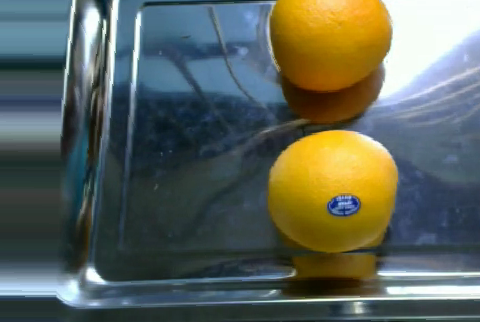Orange: (267, 128, 399, 252), (268, 0, 392, 92)
